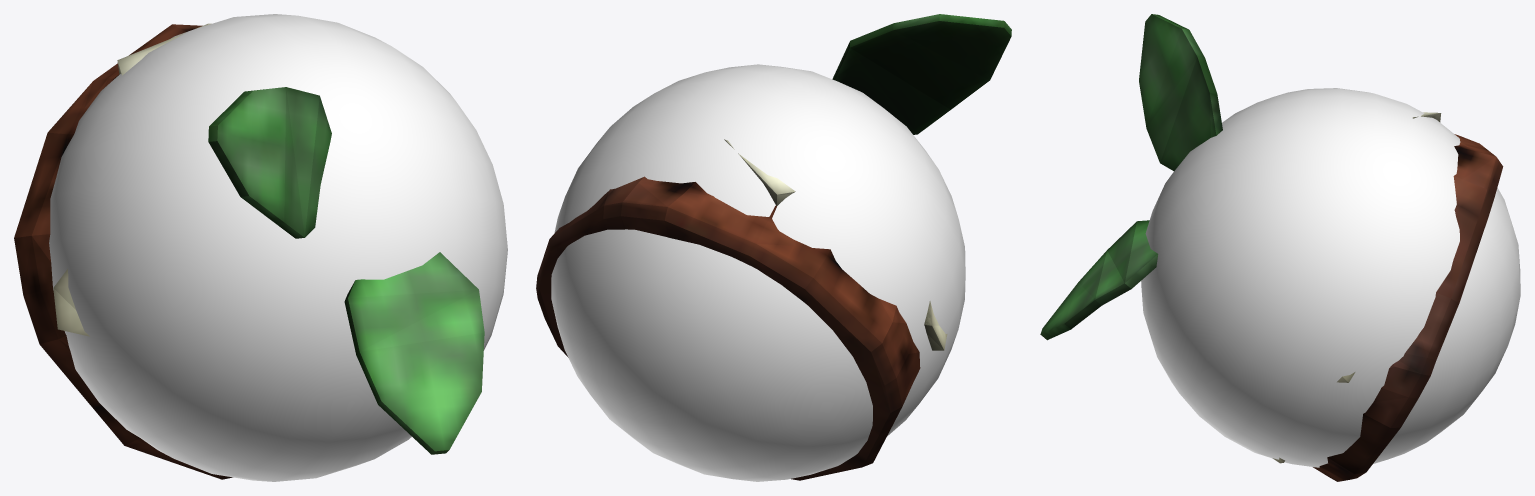
File: HolidayPuddingAnchor.fbx
3 views of the same model, side by side, from view 1: azimuth 30°, elevation 25°; view 2: azimuth 150°, elevation 25°; view 3: azimuth 270°, elevation 25° (orthographic). The views are drawn at different scales.
Visible parts, largest first — view 1: HolidayPuddingInteractionPoint, Pudding, PuddingBite02; view 2: HolidayPuddingInteractionPoint, Pudding, PuddingBite02; view 3: HolidayPuddingInteractionPoint, Pudding, PuddingBite02.
Part boxes in pixels (bbox=[...]): HolidayPuddingInteractionPoint: bbox=[49, 14, 507, 481]; Pudding: bbox=[14, 23, 484, 479]; PuddingBite02: bbox=[32, 24, 183, 261]; HolidayPuddingInteractionPoint: bbox=[551, 64, 965, 481]; Pudding: bbox=[536, 14, 1011, 480]; PuddingBite02: bbox=[550, 177, 931, 323]; HolidayPuddingInteractionPoint: bbox=[1141, 88, 1520, 467]; Pudding: bbox=[1040, 14, 1503, 481]; PuddingBite02: bbox=[1436, 134, 1495, 298].
Size of the model in its own units: 16.4 by 17.9 by 20.17.
